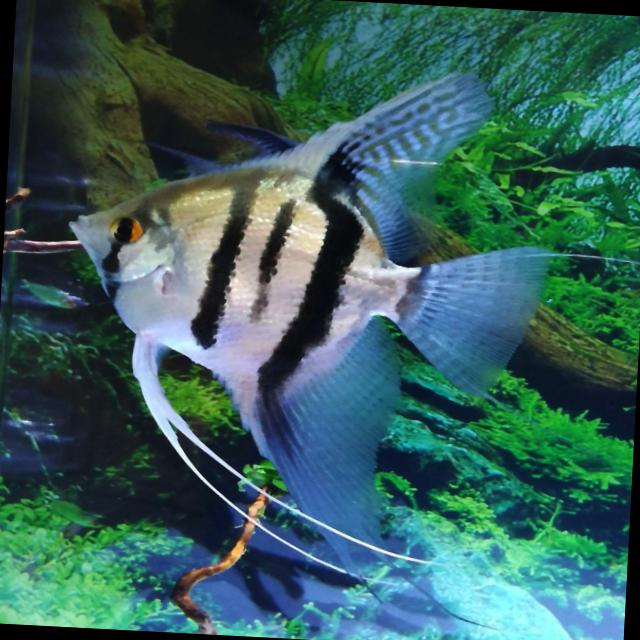AngelFish: (44, 52, 558, 582)
